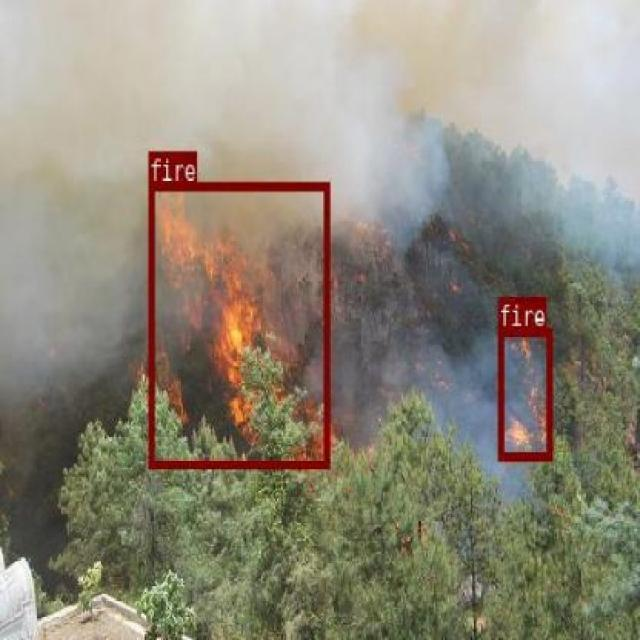Fire: (148, 180, 329, 468), (498, 326, 552, 460)
Smoke: (31, 19, 476, 144), (12, 171, 110, 420), (418, 352, 488, 449), (358, 161, 458, 228)
